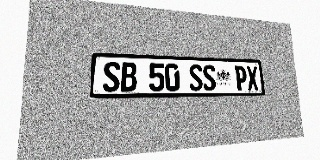0: (165, 63, 180, 91)
5: (149, 63, 165, 91)
B: (120, 62, 137, 92)
P: (234, 66, 248, 90)
S: (103, 61, 120, 92), (189, 64, 203, 91), (202, 65, 216, 91)
X: (246, 66, 259, 90)
